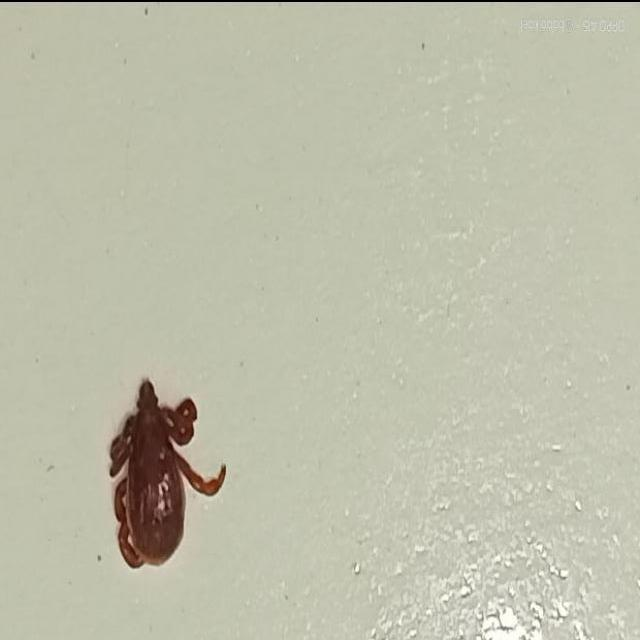Rhipicephalus Sanguineus-M: (107, 375, 228, 566)
